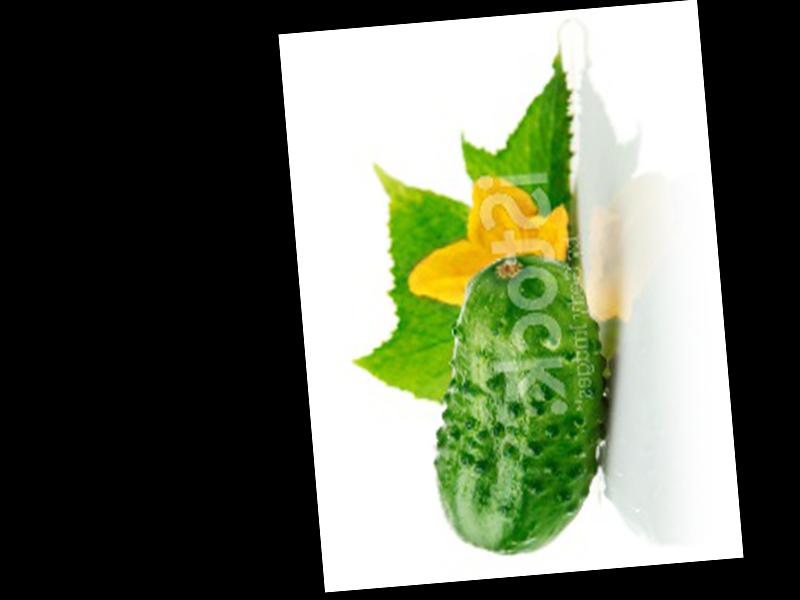Cucumber: (418, 253, 618, 560)
